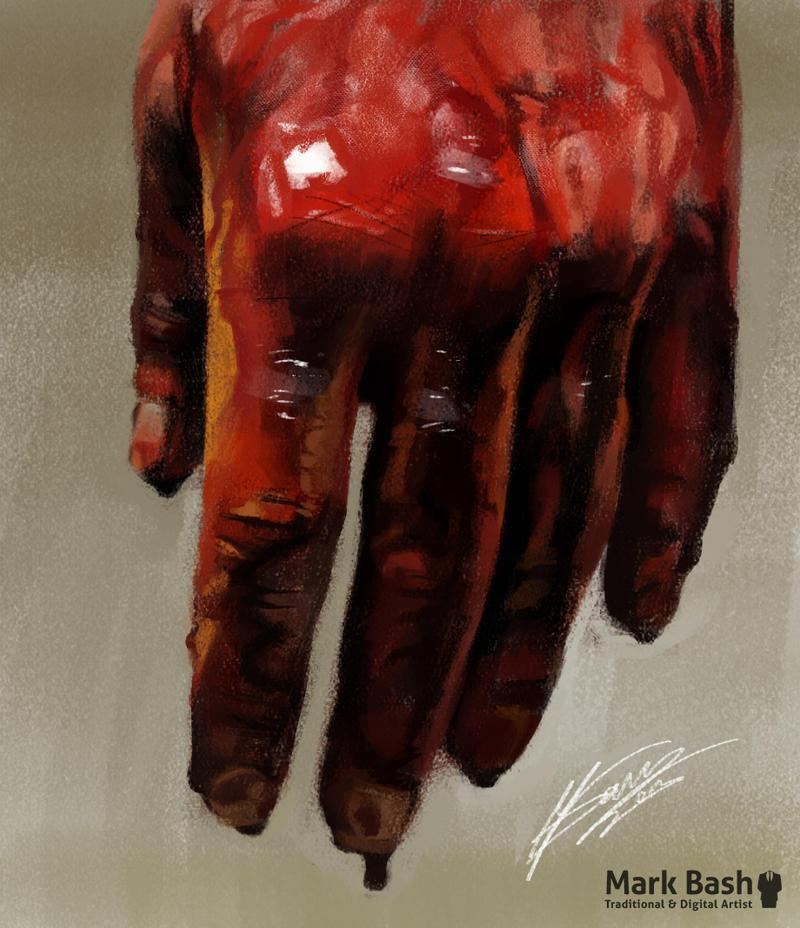Fire: (130, 0, 740, 890)
